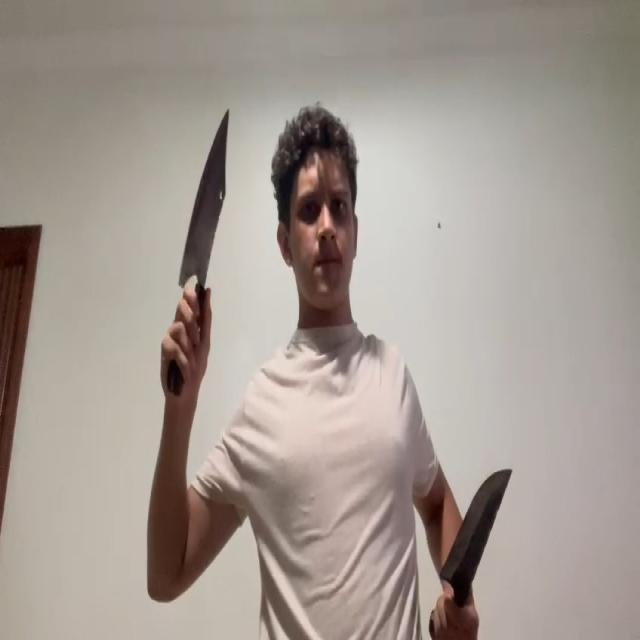knife: (180, 107, 231, 286), (439, 466, 514, 580)
